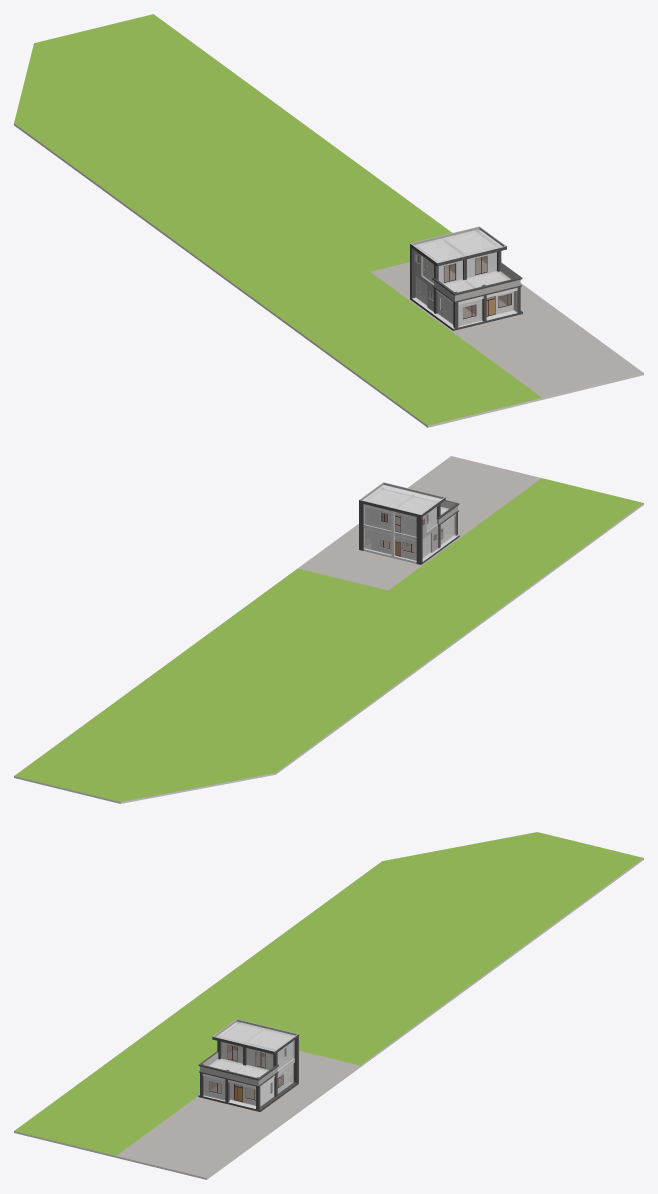
The picture shows the model from 3 angles, top to bottom: view 1: azimuth 30°, elevation 25°; view 2: azimuth 150°, elevation 25°; view 3: azimuth 330°, elevation 25°; orthographic projection. The views are drawn at different scales.
Parts seen in each view (by area): view 1: Node2, Node842, Node3, Node1, Node661, Node75, Node4; view 2: Node2, Node842, Node3, Node841, Node1, Node661; view 3: Node2, Node842, Node5, Node661, Node1, Node75.
Boxes of the visible parts, left/top/right/bottom form: Node2: left=14, top=14, right=541, bottom=425; Node842: left=370, top=262, right=643, bottom=397; Node3: left=14, top=123, right=427, bottom=427; Node1: left=15, top=125, right=641, bottom=426; Node661: left=445, top=231, right=495, bottom=253; Node75: left=444, top=271, right=508, bottom=292; Node4: left=428, top=373, right=643, bottom=427; Node2: left=14, top=478, right=643, bottom=801; Node842: left=298, top=456, right=541, bottom=590; Node3: left=275, top=503, right=643, bottom=774; Node841: left=359, top=500, right=421, bottom=564; Node1: left=15, top=505, right=641, bottom=803; Node661: left=366, top=488, right=410, bottom=507; Node2: left=14, top=832, right=643, bottom=1155; Node842: left=116, top=1050, right=359, bottom=1177; Node5: left=206, top=858, right=643, bottom=1179; Node661: left=247, top=1029, right=292, bottom=1048; Node1: left=15, top=860, right=641, bottom=1179; Node75: left=211, top=1059, right=267, bottom=1077.
Size of the model in its own units: 1260 by 323 by 4940.
